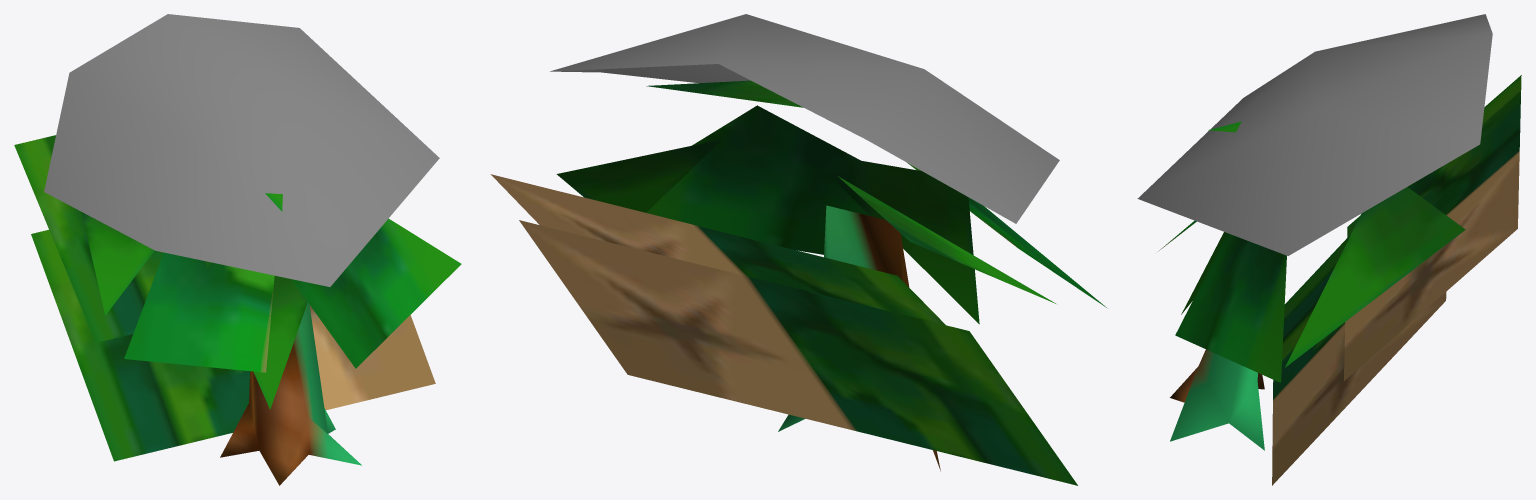
File: fg_bushC_1_s.dae
3 renders of one model, left to right at view 1: azimuth 30°, elevation 25°; view 2: azimuth 150°, elevation 25°; view 3: azimuth 270°, elevation 25°, orthographic. The views are drawn at different scales.
Parts seen in each view (by area): view 1: fg_bushC_1_s; view 2: fg_bushC_1_s; view 3: fg_bushC_1_s.
Boxes of the visible parts, bbox=[...] form: fg_bushC_1_s: bbox=[14, 14, 461, 485]; fg_bushC_1_s: bbox=[490, 14, 1106, 485]; fg_bushC_1_s: bbox=[1137, 14, 1521, 485].
Bounding box in the file's own units: 31.21 × 29 × 26.29.
1 material, 1 textured.
